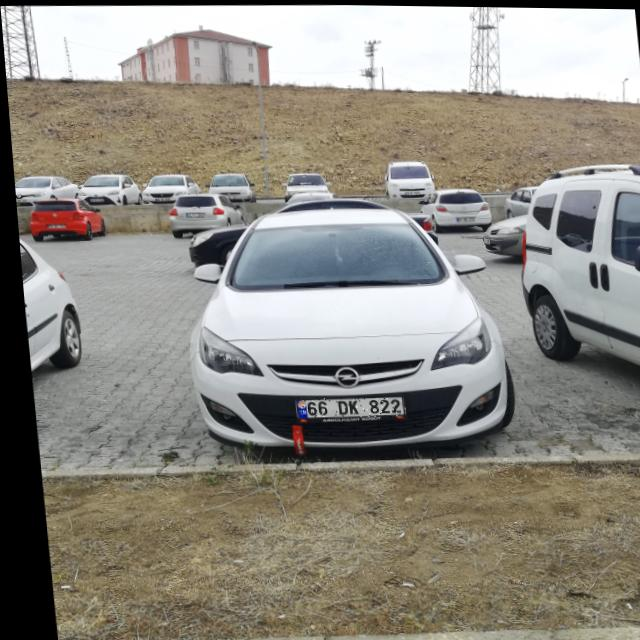license_plate: (289, 394, 399, 417)
